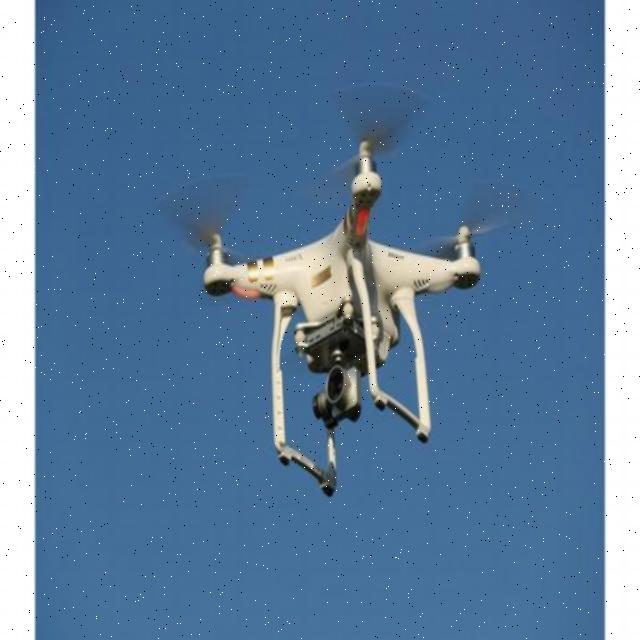UAV: (202, 135, 484, 501)
